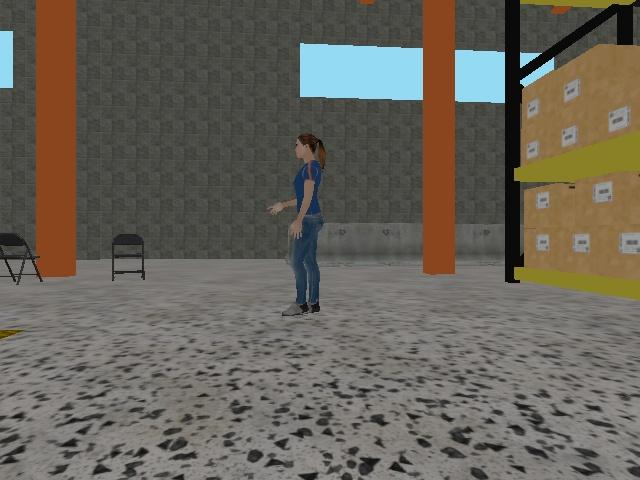chair: (0, 231, 44, 286), (109, 233, 147, 281)
person: (265, 132, 328, 318)
